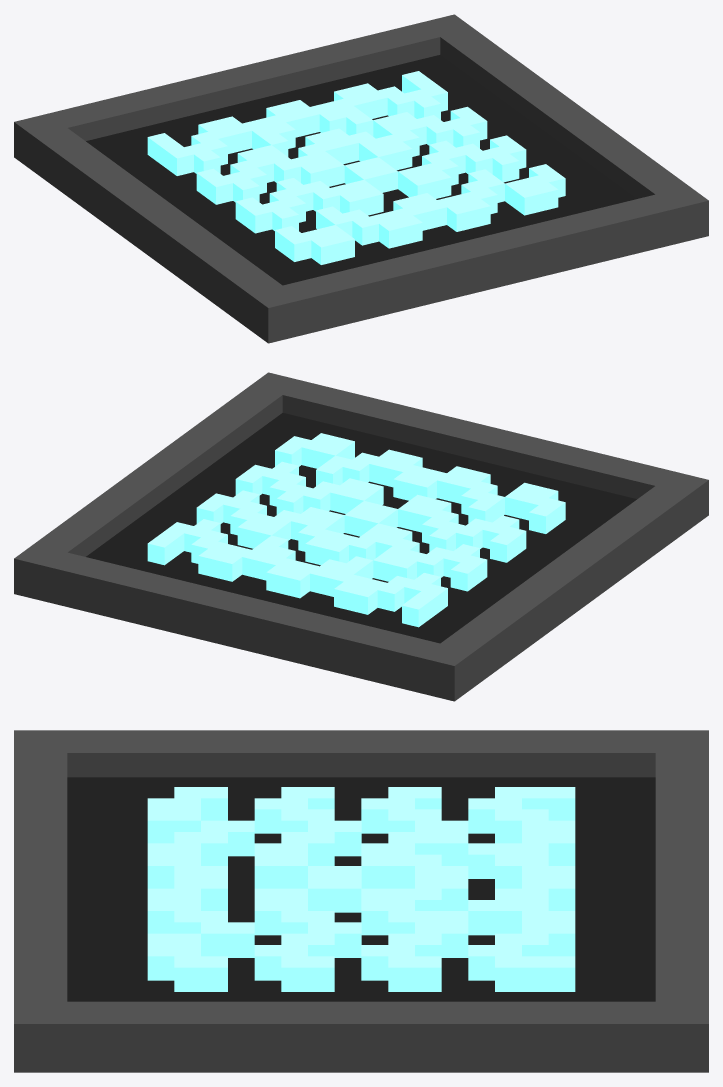
File: trap_WAVES_TEAL.glb
3 renders of one model, top to bottom at view 1: azimuth 30°, elevation 25°; view 2: azimuth 150°, elevation 25°; view 3: azimuth 270°, elevation 25°, orthographic. The views are drawn at different scales.
Parts seen in each view (by area): view 1: item_TRAP_WAVES_TEAL; view 2: item_TRAP_WAVES_TEAL; view 3: item_TRAP_WAVES_TEAL.
Part boxes in pixels (x1,y1,x2,y2): item_TRAP_WAVES_TEAL: [14, 14, 708, 343]; item_TRAP_WAVES_TEAL: [14, 372, 708, 701]; item_TRAP_WAVES_TEAL: [14, 730, 708, 1072].
Size of the model in its own units: 0.5909 by 0.0455 by 0.5909.
1 material, 1 textured.
